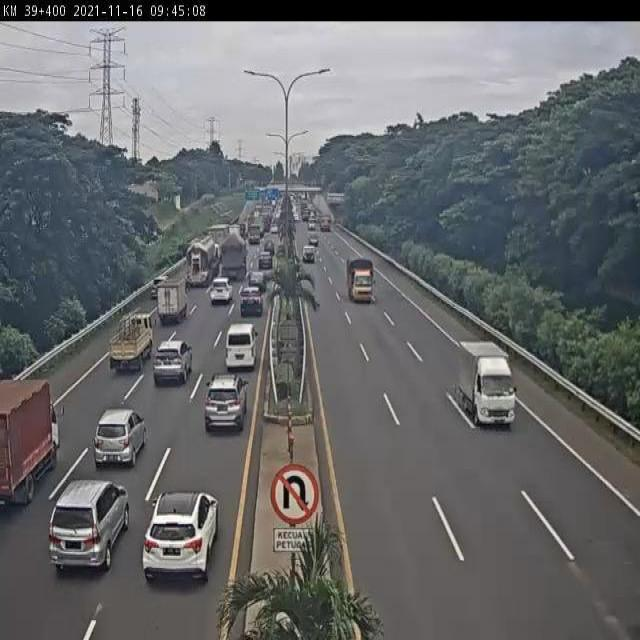car: (48, 482, 130, 570), (142, 489, 218, 579), (94, 412, 145, 464), (203, 376, 245, 436), (223, 324, 256, 371), (154, 341, 189, 380), (238, 291, 264, 320), (210, 278, 231, 306), (246, 270, 268, 294), (151, 276, 168, 299)
mid truck: (217, 238, 247, 282)
small truck: (0, 385, 55, 516), (460, 340, 518, 427), (110, 314, 152, 374), (156, 280, 187, 323)
truck-m-: (347, 255, 377, 304)
truck-xl-: (180, 239, 214, 289)
